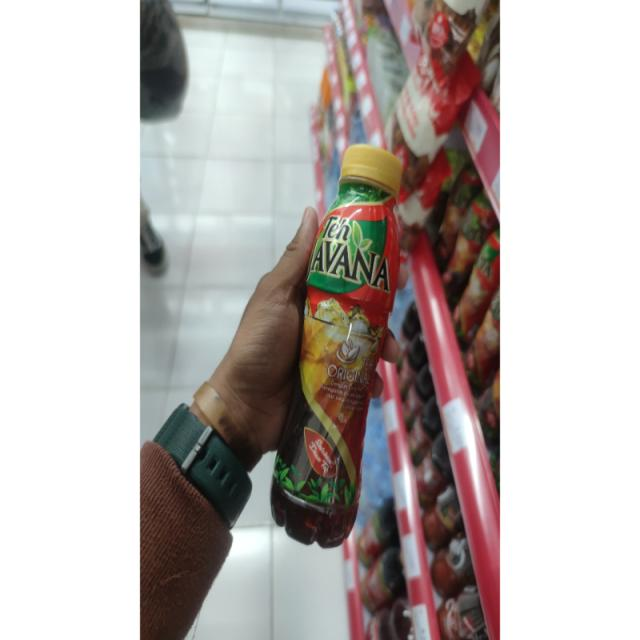botol: (253, 119, 425, 580)
